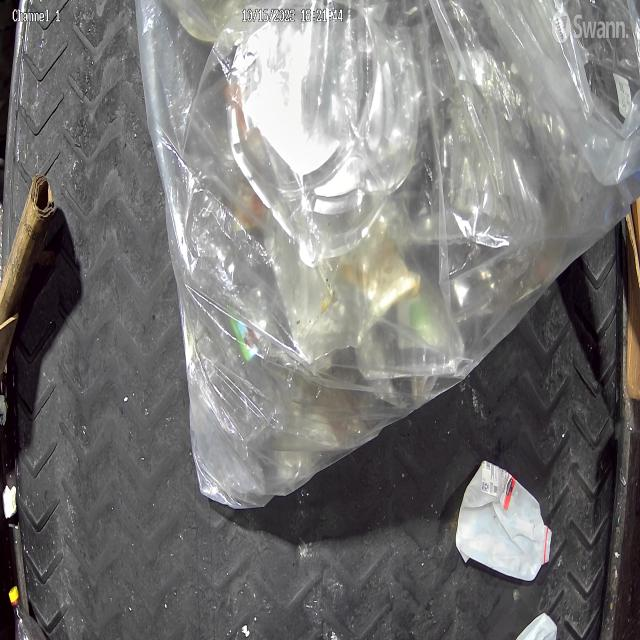milk_jug: (455, 460, 553, 580)
plastic_bottle: (8, 584, 47, 640)
